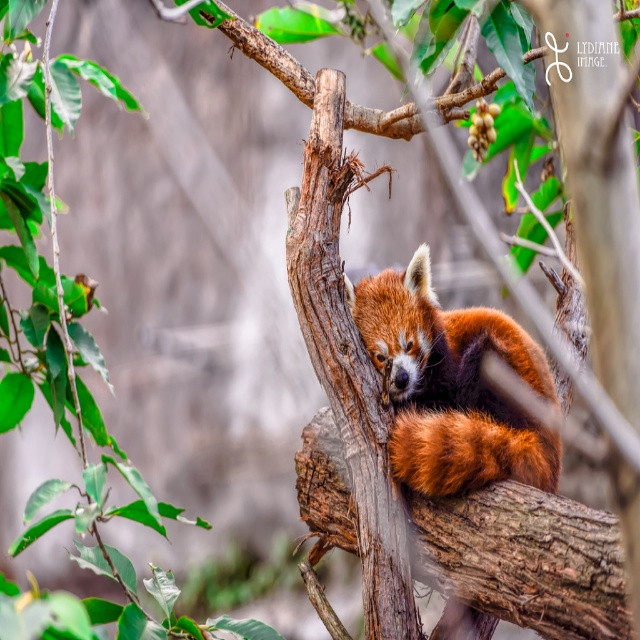Red panda: (343, 241, 563, 497)
